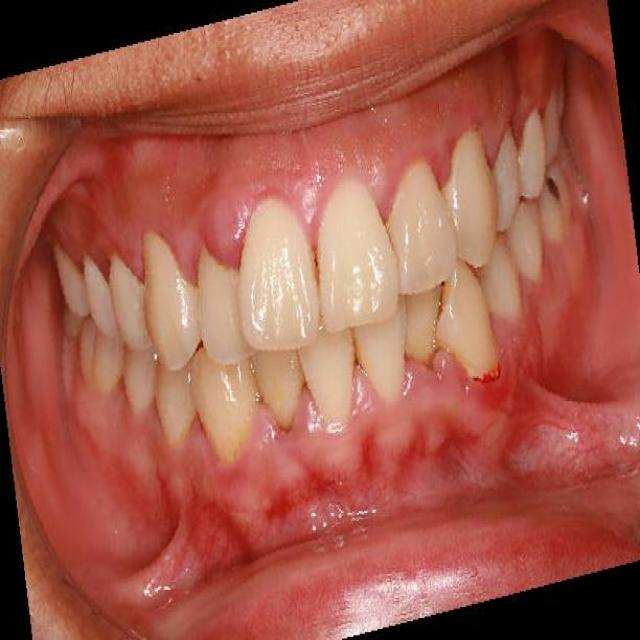bleeding: (478, 100, 526, 170), (467, 333, 504, 410), (182, 394, 221, 464), (117, 227, 148, 297), (265, 396, 297, 455), (399, 340, 436, 388)
swelling: (197, 184, 252, 282), (288, 168, 329, 256), (363, 148, 400, 222)
